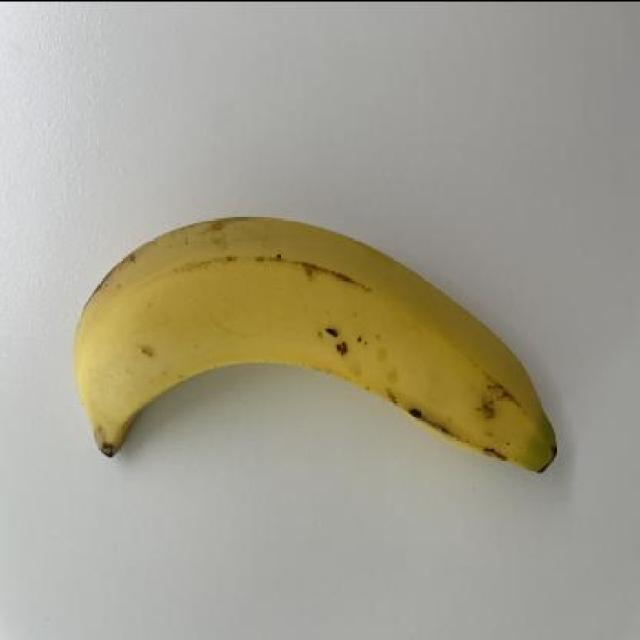banana: (61, 212, 562, 485)
